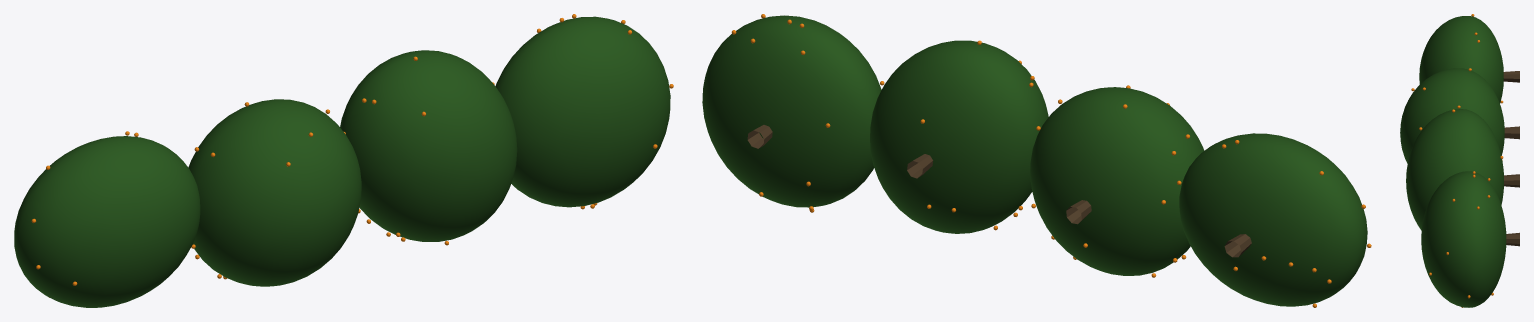
Rendered from citrus_plain4_a_fruit.obj.
3 renders of one model, left to right at view 1: azimuth 30°, elevation 25°; view 2: azimuth 150°, elevation 25°; view 3: azimuth 270°, elevation 25°, orthographic. The views are drawn at different scales.
Visible parts, largest first — view 1: canopy, fruit; view 2: canopy, trunk, fruit; view 3: canopy, trunk, fruit.
Boxes of the visible parts, x1,y1,x2,y2 form: canopy: (14, 16, 670, 307); fruit: (31, 14, 673, 297); canopy: (702, 15, 1367, 306); trunk: (747, 125, 1251, 257); fruit: (731, 14, 1371, 307); canopy: (1400, 16, 1506, 307); trunk: (1503, 71, 1519, 246); fruit: (1411, 14, 1503, 307).
Bounding box in the file's own units: 12.31 × 3.63 × 2.88.
